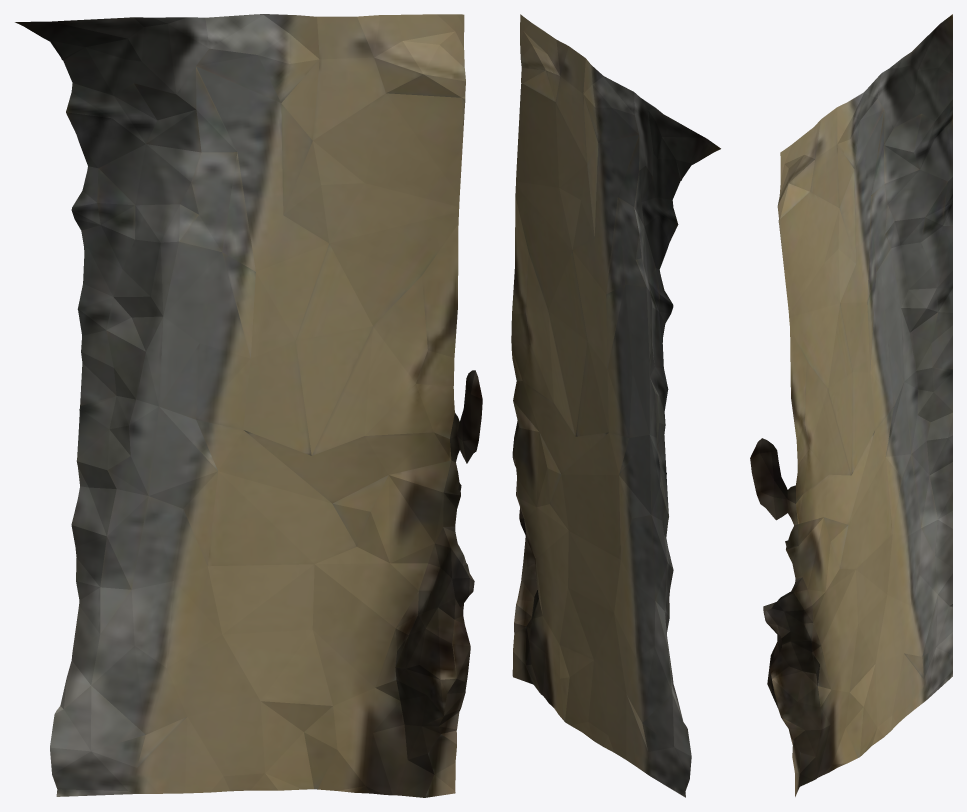
3 views of the same model, side by side, from view 1: azimuth 30°, elevation 25°; view 2: azimuth 150°, elevation 25°; view 3: azimuth 270°, elevation 25° (orthographic). The views are drawn at different scales.
Size of the model in its own units: 0.7705 by 1.67 by 0.4768.
Materials: 1 (1 with a texture image).
